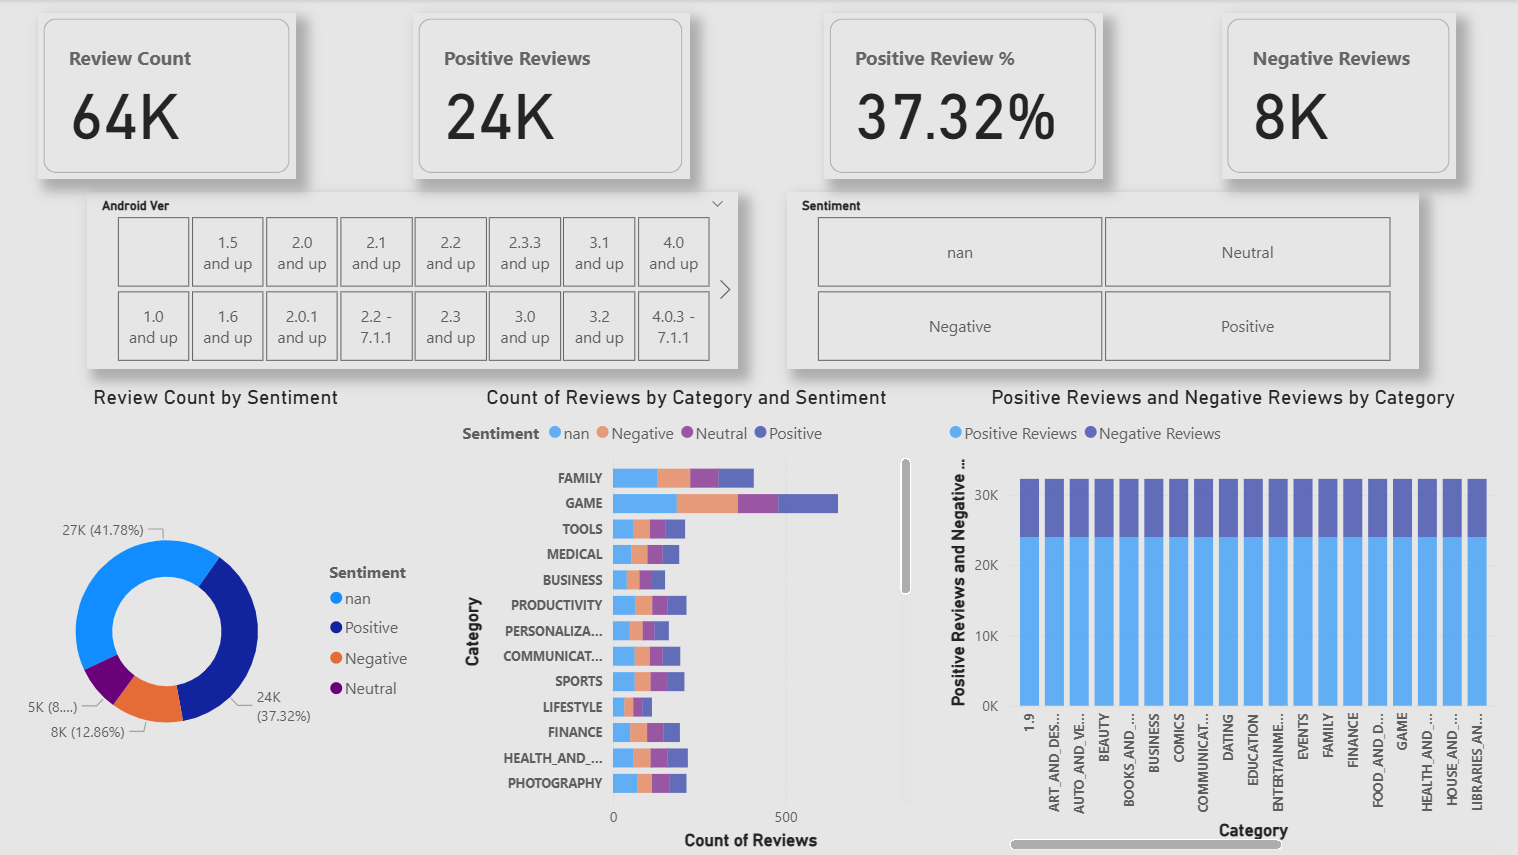

The dashboard page shown, as its layout file describes it:
{"tool":"powerbi","page":{"name":"Customer Sentiment Analysis","canvas":[1280,720],"ordinal":2},"visuals":[{"type":"cardVisual","fields":{"Data":["googleplaystore_user_reviews.Review Count"]},"box":[32.9,11.8,217.6,140],"z":0},{"type":"cardVisual","fields":{"Data":["googleplaystore_user_reviews.Positive Reviews"]},"box":[348.2,11.8,232.9,140],"z":1000},{"type":"cardVisual","fields":{"Data":["googleplaystore_user_reviews.Negative Reviews"]},"box":[1028.2,11.8,197.6,140],"z":2000},{"type":"cardVisual","fields":{"Data":["googleplaystore_user_reviews.Positive Review %"]},"box":[694.1,11.8,234.1,140],"z":3000},{"type":"donutChart","fields":{"Category":["googleplaystore_user_reviews.Sentiment"],"Y":["googleplaystore_user_reviews.Review Count"]},"box":[0,324.7,364.7,395.3],"z":4000},{"type":"barChart","fields":{"Category":["googleplaystore.Category"],"Series":["googleplaystore_user_reviews.Sentiment"],"Y":["CountNonNull(googleplaystore.Reviews)"]},"box":[384.7,324.7,387.1,395.3],"z":5000},{"type":"columnChart","fields":{"Category":["googleplaystore.Category"],"Y":["googleplaystore_user_reviews.Positive Reviews","googleplaystore_user_reviews.Negative Reviews"]},"box":[794.1,324.7,471.8,395.3],"z":6000},{"type":"slicer","fields":{"Values":["googleplaystore_user_reviews.Sentiment"]},"box":[662.4,162.4,531.8,149.4],"z":8000},{"type":"slicer","fields":{"Values":["googleplaystore.Android Ver"]},"box":[74.1,162.4,548.2,149.4],"z":8001}]}

Visuals, with their boxes in screenshot pixels (x1, y1, x2, y2), scaled from the page's 1280x720 canvas onto the 1518x855 screenshot:
cardVisual - googleplaystore_user_reviews.Review Count: box=[39, 14, 297, 180]
cardVisual - googleplaystore_user_reviews.Positive Reviews: box=[413, 14, 689, 180]
cardVisual - googleplaystore_user_reviews.Negative Reviews: box=[1219, 14, 1454, 180]
cardVisual - googleplaystore_user_reviews.Positive Review %: box=[823, 14, 1101, 180]
donutChart - googleplaystore_user_reviews.Sentiment x googleplaystore_user_reviews.Review Count: box=[0, 386, 433, 854]
barChart - googleplaystore.Category x googleplaystore_user_reviews.Sentiment: box=[456, 386, 915, 854]
columnChart - googleplaystore.Category x googleplaystore_user_reviews.Positive Reviews: box=[942, 386, 1501, 854]
slicer - googleplaystore_user_reviews.Sentiment: box=[786, 193, 1416, 370]
slicer - googleplaystore.Android Ver: box=[88, 193, 738, 370]
